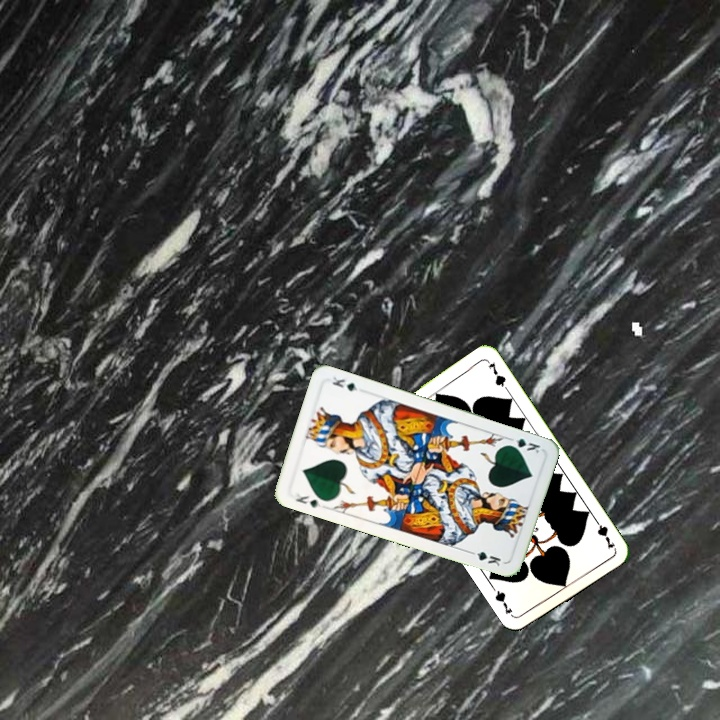G7: (590, 514, 617, 552)
GK: (503, 433, 543, 456), (292, 489, 323, 510)
